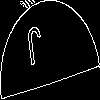J: (25, 25, 45, 75)
